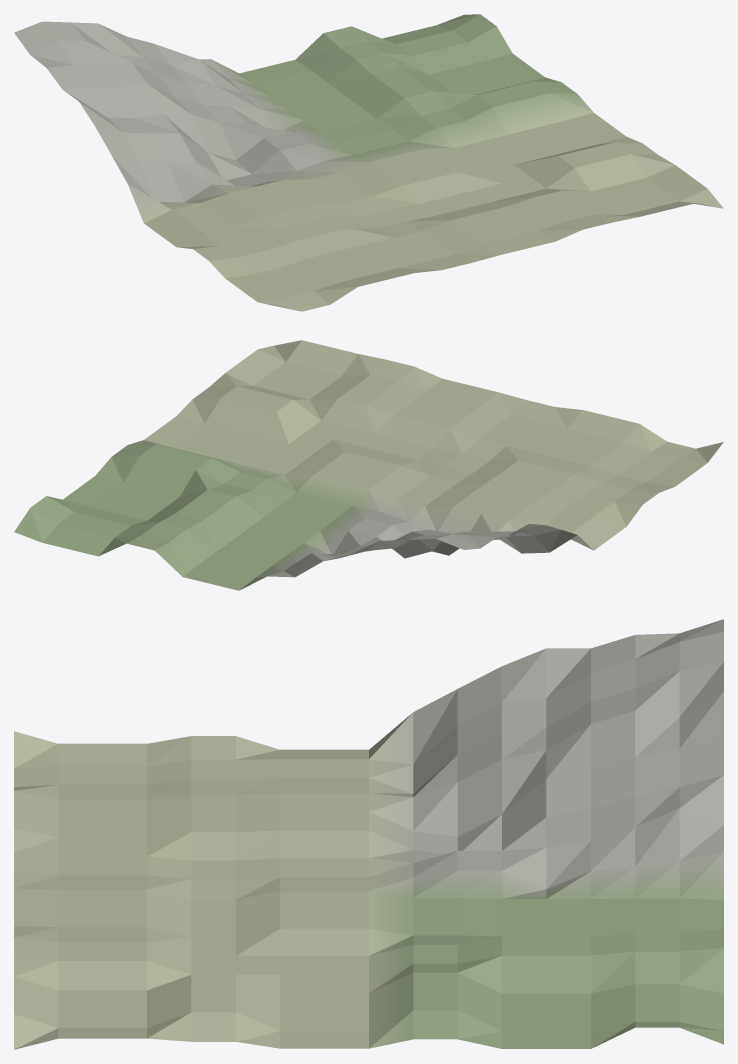
3 renders of one model, top to bottom at view 1: azimuth 30°, elevation 25°; view 2: azimuth 150°, elevation 25°; view 3: azimuth 270°, elevation 25°, orthographic. The views are drawn at different scales.
Size of the model in its own units: 32 by 7.39 by 32.
